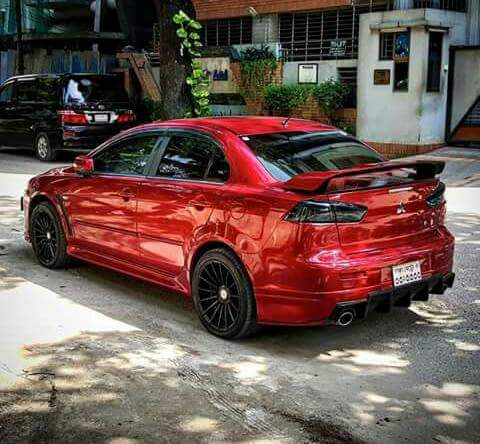registration_plate: (391, 260, 422, 287)
